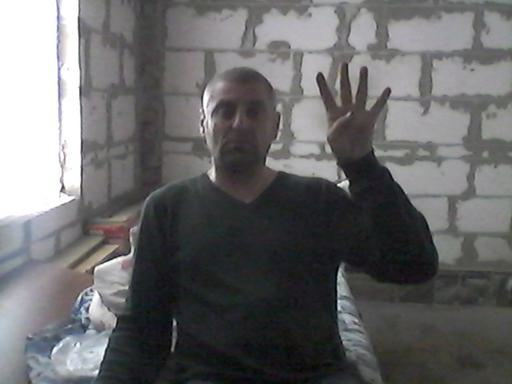four: (315, 60, 392, 163)
